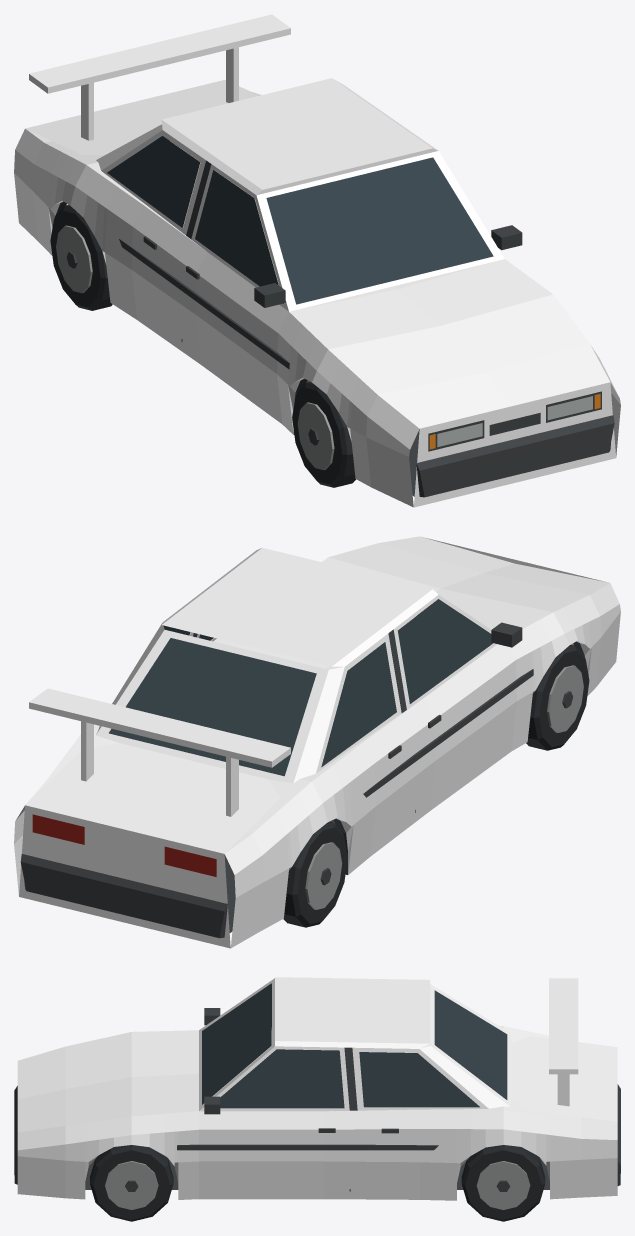
File: sanga_usagi_corrida_99.glb
The picture shows the model from 3 angles, top to bottom: view 1: azimuth 30°, elevation 25°; view 2: azimuth 150°, elevation 25°; view 3: azimuth 270°, elevation 25°; orthographic projection. The views are drawn at different scales.
Parts seen in each view (by area): view 1: sanga_usagi_corrida_99; view 2: sanga_usagi_corrida_99; view 3: sanga_usagi_corrida_99.
Part boxes in pixels (<box>): sanga_usagi_corrida_99: <box>14,14,620,507</box>; sanga_usagi_corrida_99: <box>14,536,620,948</box>; sanga_usagi_corrida_99: <box>14,977,620,1221</box>.
Size of the model in its own units: 1.72 by 1.39 by 4.57.
8 materials, 1 textured.
